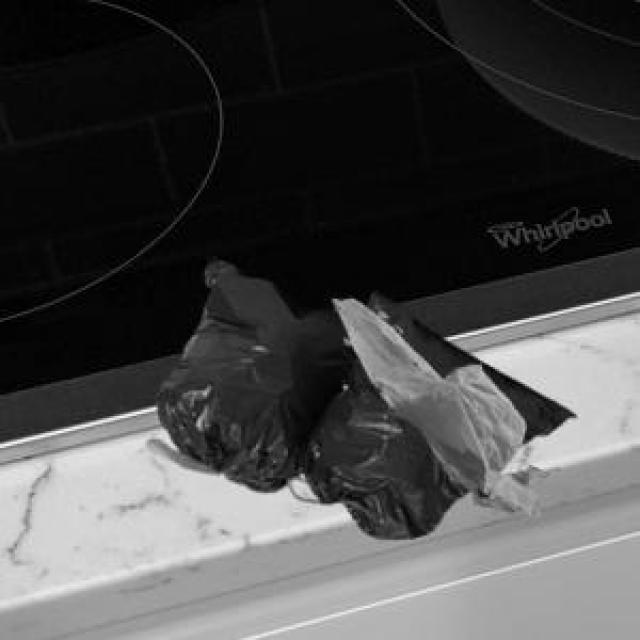miscellaneous trash: (143, 254, 570, 536)
